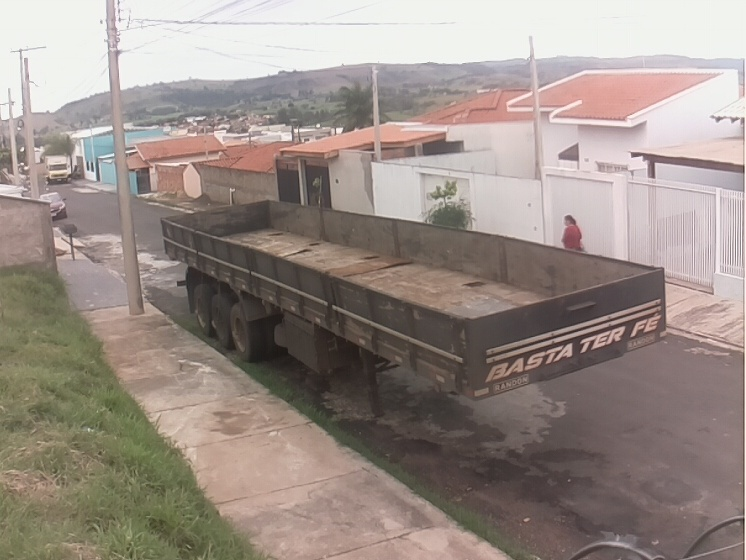person: (560, 213, 585, 252)
